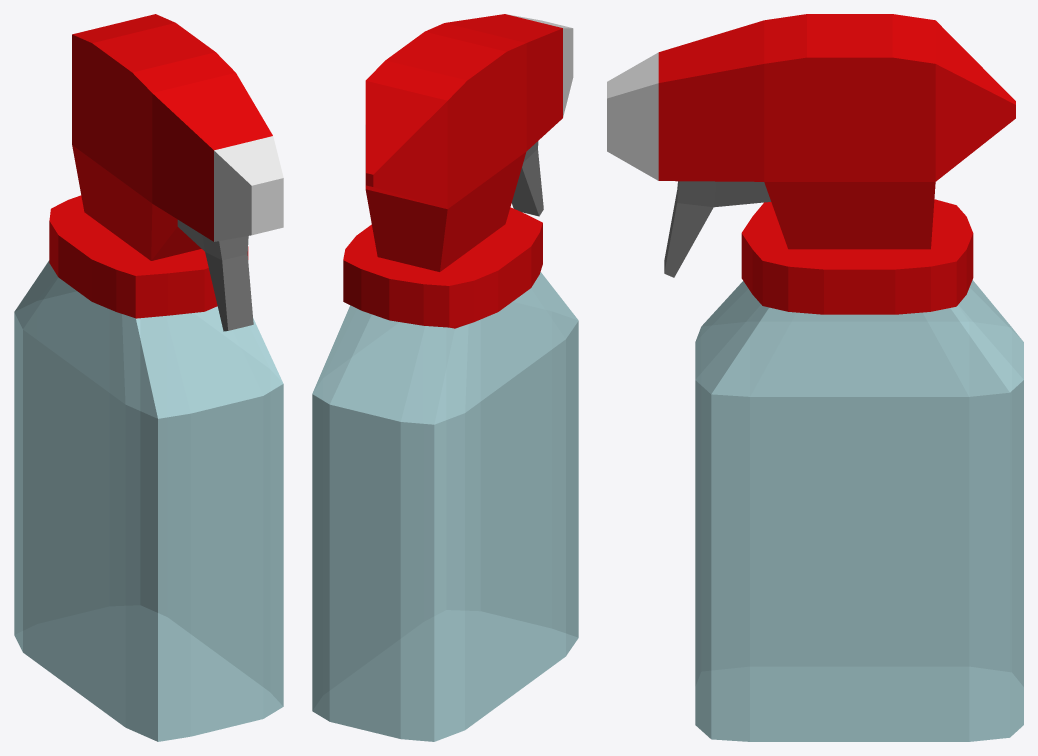
The model's file is desinfectant.fbx.
3 views of the same model, side by side, from view 1: azimuth 30°, elevation 25°; view 2: azimuth 150°, elevation 25°; view 3: azimuth 270°, elevation 25° (orthographic). The views are drawn at different scales.
Visible parts, largest first — view 1: Cube.002, Cube.001, Cube, Cube.003; view 2: Cube.002, Cube.001, Cube.003, Cube; view 3: Cube.002, Cube.001, Cube, Cube.003.
Boxes of the visible parts, x1,y1,x2,y2 form: Cube.002: [14, 260, 283, 741]; Cube.001: [49, 14, 272, 318]; Cube: [214, 136, 283, 241]; Cube.003: [177, 220, 253, 331]; Cube.002: [312, 272, 578, 741]; Cube.001: [343, 14, 562, 328]; Cube.003: [511, 141, 543, 216]; Cube: [507, 14, 573, 117]; Cube.002: [695, 280, 1023, 741]; Cube.001: [658, 14, 1015, 314]; Cube: [607, 52, 658, 180]; Cube.003: [664, 181, 770, 277].
Bounding box in the file's own units: 84.18 × 347 × 195.
